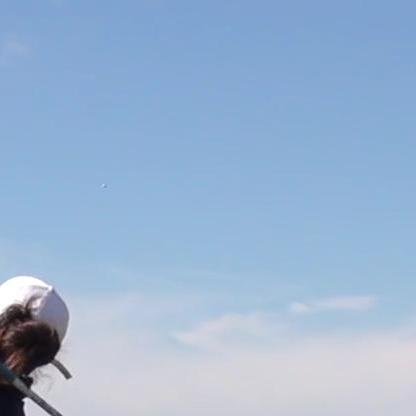golfball: (99, 181, 104, 187)
